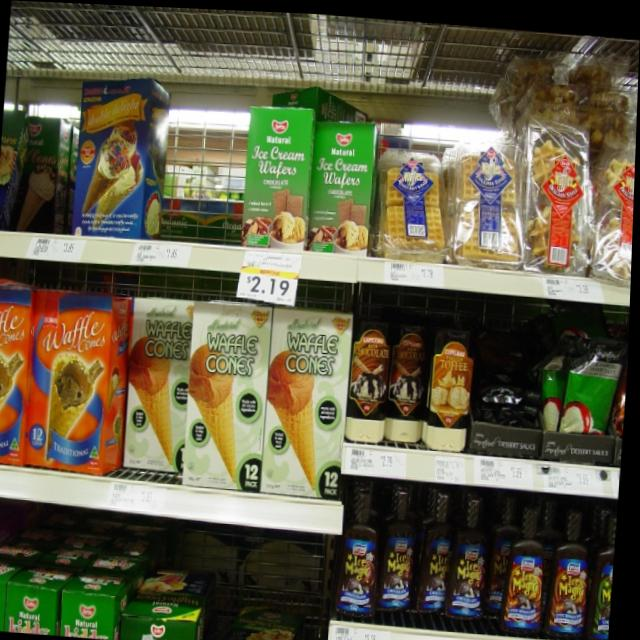q106: (27, 283, 122, 470), (0, 283, 37, 465)
